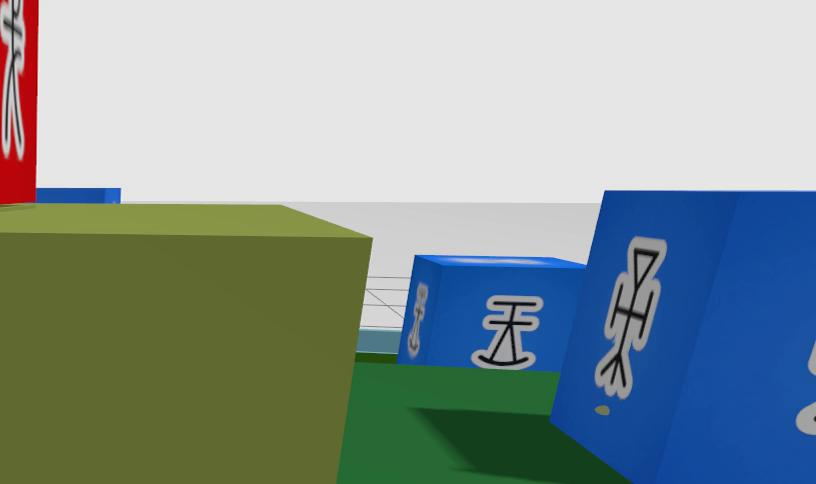KFS_FAKE: (0, 0, 42, 205), (1, 0, 25, 159)
KFS_REAL: (551, 192, 815, 484), (398, 255, 584, 370), (594, 236, 665, 398), (472, 295, 543, 368)
